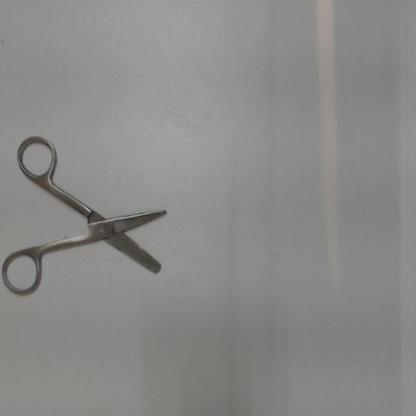Dressing Scissors: (0, 127, 181, 301)
